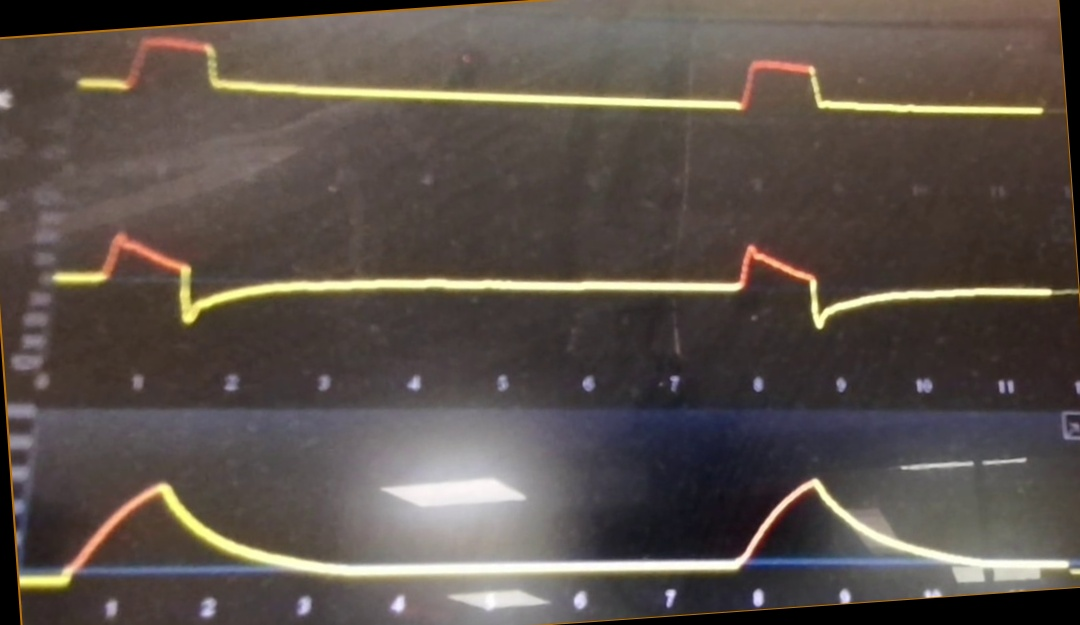Normal Flow: (55, 206, 1061, 340)
Normal Volume: (23, 459, 1079, 588)
